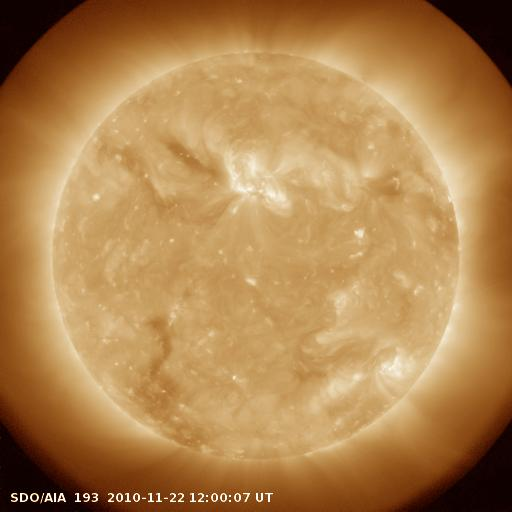coronal_hole: (133, 316, 197, 451), (158, 135, 226, 181)
